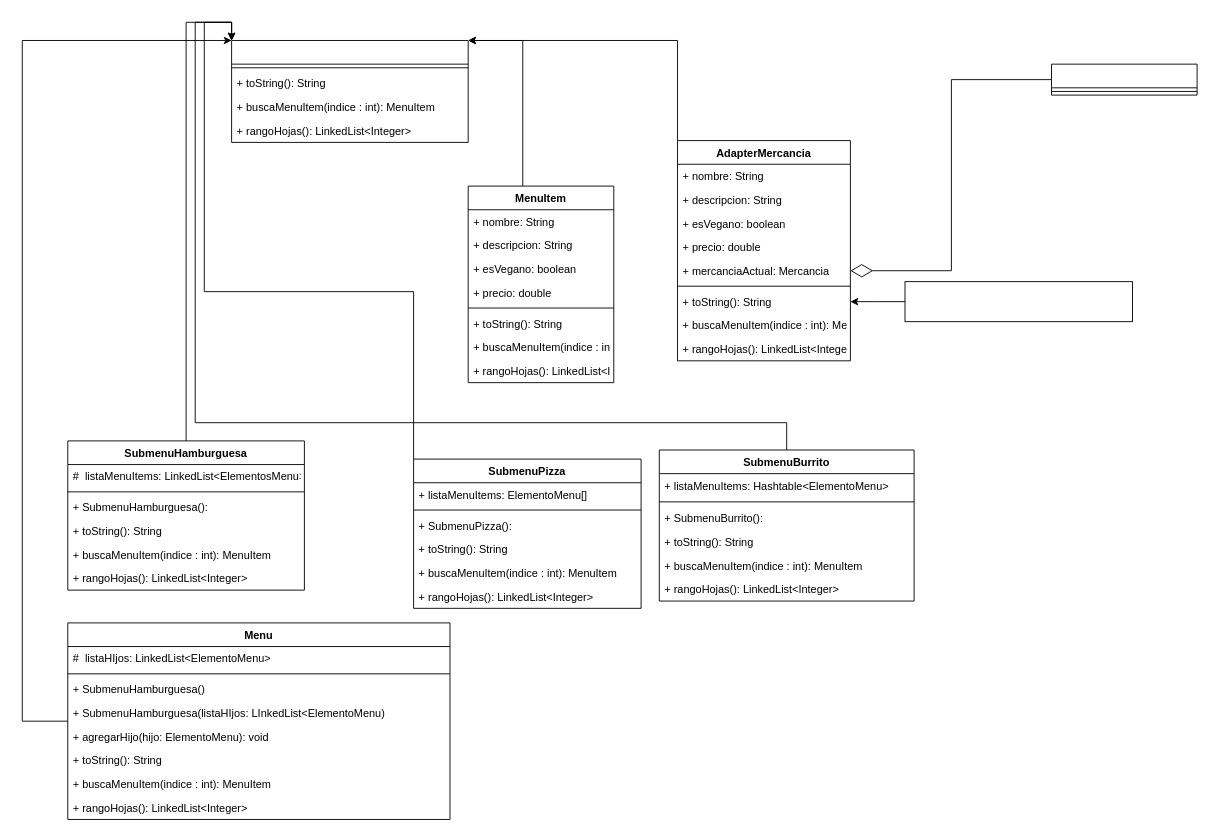
This 1213x838 diagram has some shape labels left out. Each missing label, with the box of its shape:
ElementoMenu: (231, 40, 468, 142)
mercancia: (1051, 63, 1197, 95)
return mercanciaActual.leerEtiqueta();: (904, 281, 1132, 322)
